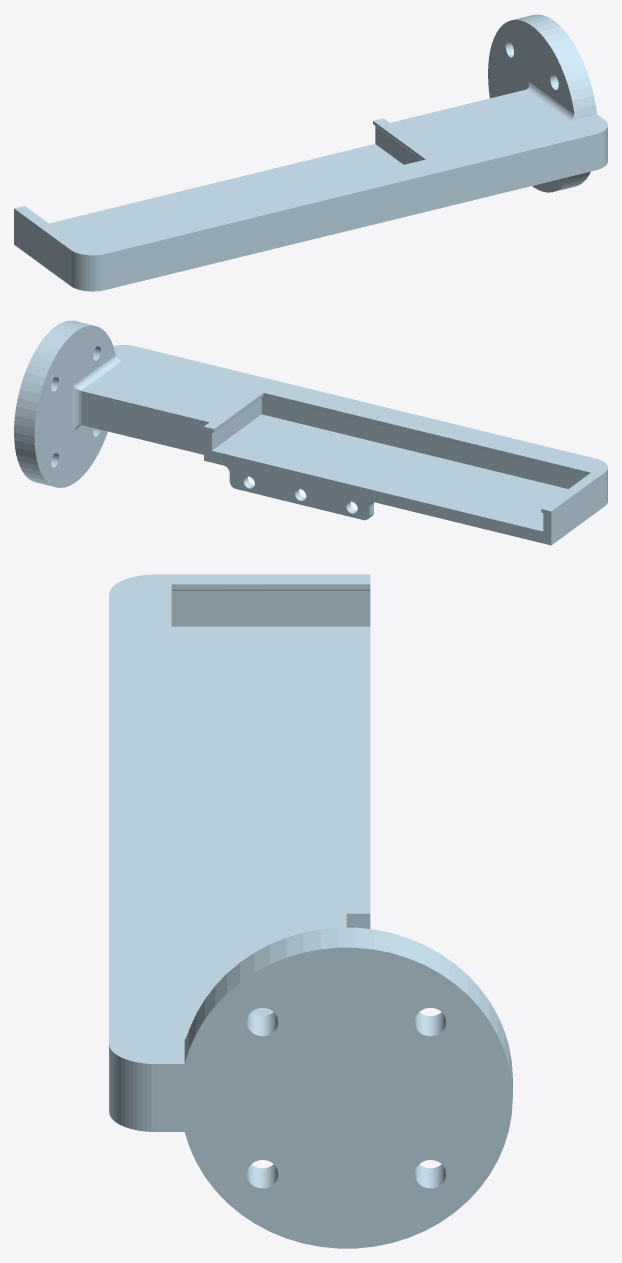
Rendered from Support3D_meters.glb.
The picture shows the model from 3 angles, top to bottom: view 1: azimuth 30°, elevation 25°; view 2: azimuth 150°, elevation 25°; view 3: azimuth 270°, elevation 25°; orthographic projection. The views are drawn at different scales.
Parts seen in each view (by area): view 1: Support3D; view 2: Support3D; view 3: Support3D.
Boxes of the visible parts, left/top/right/bottom form: Support3D: left=14, top=14, right=607, bottom=291; Support3D: left=14, top=320, right=607, bottom=545; Support3D: left=109, top=574, right=512, bottom=1248.
Bounding box in the file's own units: 0.244 × 0.0699 × 0.085.
